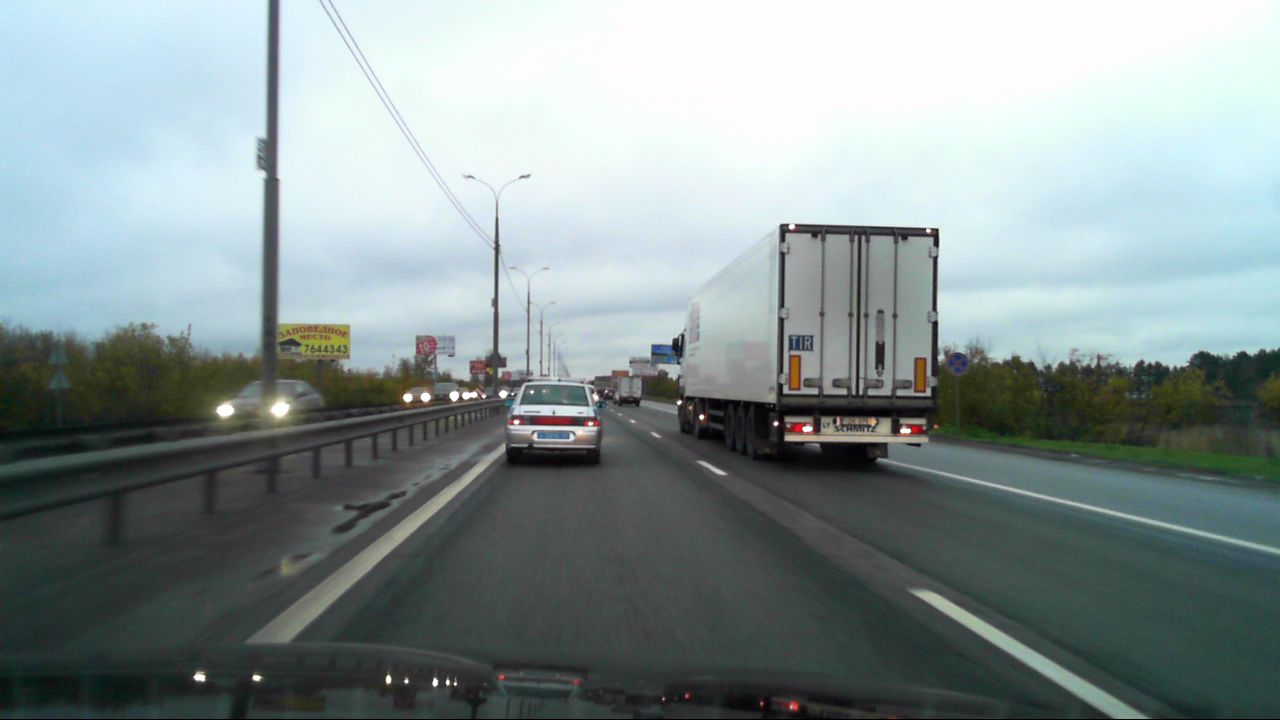No Parking: (945, 353, 968, 376)
